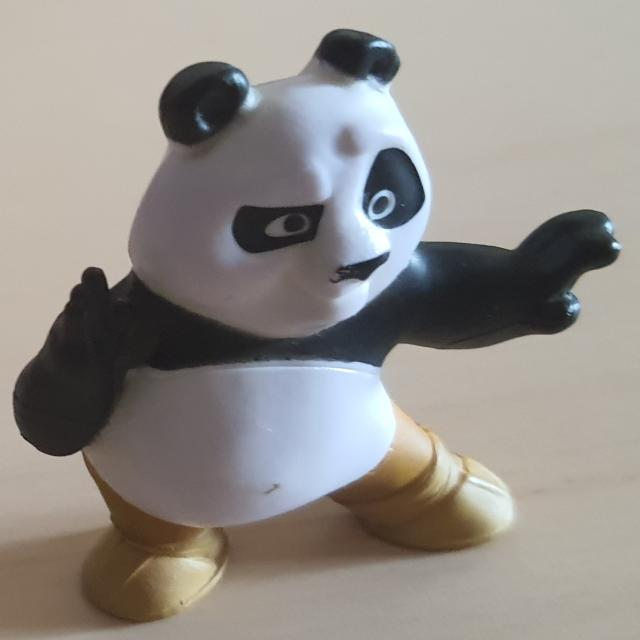Panda: (12, 26, 622, 622)
